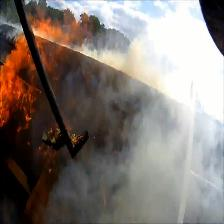fire: (1, 62, 24, 105), (34, 26, 70, 43), (14, 36, 27, 60)
smoke: (147, 35, 221, 224), (83, 153, 145, 222)
